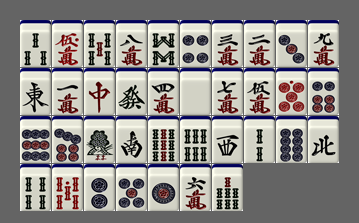0m: (52, 20, 83, 67)
0p: (276, 68, 307, 115)
0s: (52, 164, 83, 211)
1m: (52, 68, 83, 115)
1p: (148, 164, 179, 211)
1s: (84, 116, 115, 163)
1z: (20, 68, 51, 115)
2m: (244, 20, 275, 67)
2p: (84, 164, 115, 211)
2s: (244, 116, 275, 163)
2z: (116, 116, 147, 163)
3m: (212, 20, 243, 67)
3p: (276, 20, 307, 67)
3s: (20, 20, 51, 67)
3z: (212, 116, 243, 163)
4m: (148, 68, 179, 115)
4p: (180, 20, 211, 67)
4s: (20, 164, 51, 211)
4z: (308, 116, 339, 163)
5m: (244, 68, 275, 115)
5p: (116, 164, 147, 211)
5s: (84, 20, 115, 67)
5z: (180, 68, 211, 115)
6m: (180, 164, 211, 211)
6p: (308, 68, 339, 115)
6s: (180, 116, 211, 163)
6z: (116, 68, 147, 115)
7m: (212, 68, 243, 115)
7p: (52, 116, 83, 163)
7s: (212, 164, 243, 211)
7z: (84, 68, 115, 115)
8m: (116, 20, 147, 67)
8p: (276, 116, 307, 163)
8s: (148, 20, 179, 67)
9m: (308, 20, 339, 67)
9p: (20, 116, 51, 163)
9s: (148, 116, 179, 163)
